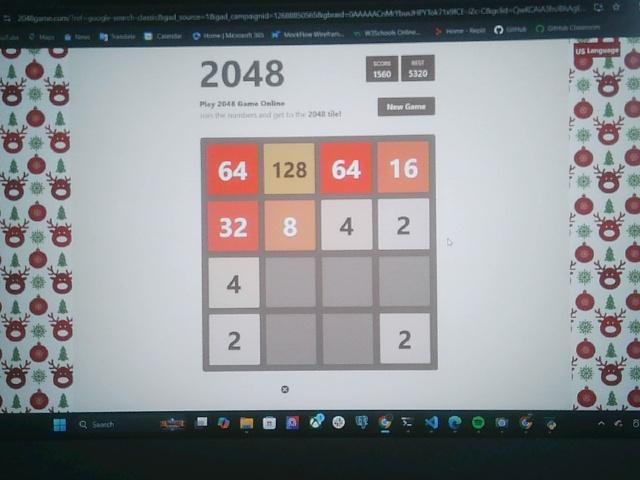board: (200, 137, 437, 372)
tile: (263, 144, 316, 196), (321, 199, 373, 252), (379, 199, 431, 251), (209, 257, 261, 309), (378, 140, 429, 193), (321, 142, 373, 193), (264, 202, 316, 253), (381, 313, 431, 365), (208, 143, 258, 194), (208, 202, 259, 251), (209, 315, 260, 364)
